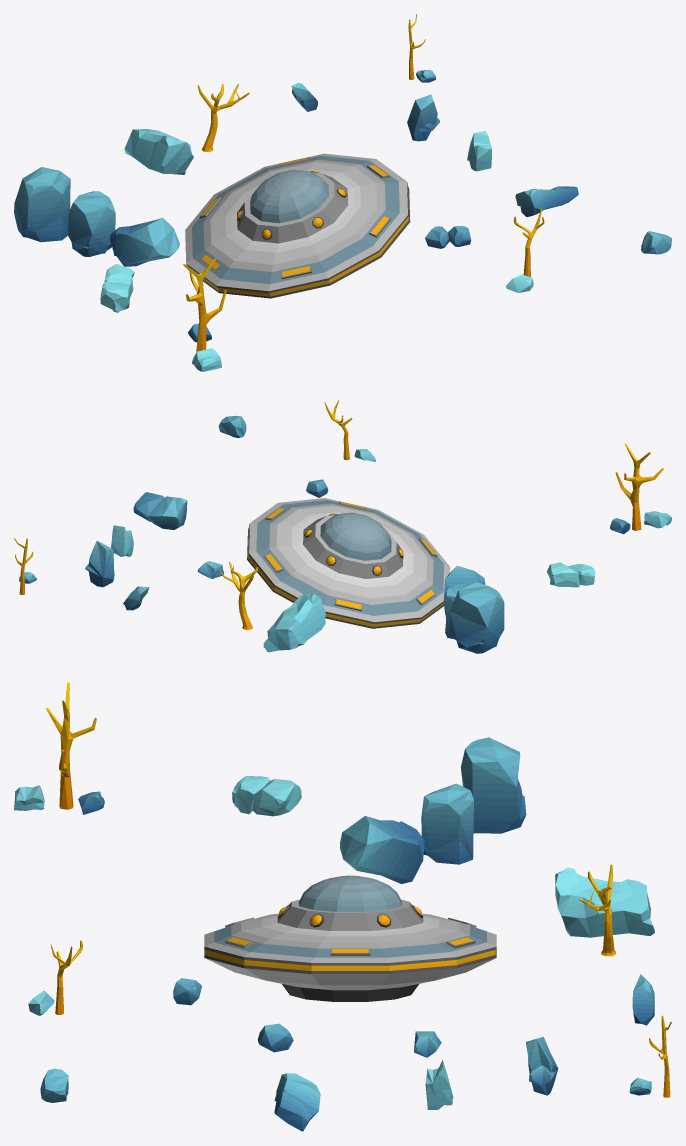
Rendered from field_20.glb.
3 views of the same model, one above another, from view 1: azimuth 30°, elevation 25°; view 2: azimuth 150°, elevation 25°; view 3: azimuth 270°, elevation 25° (orthographic). The views are drawn at different scales.
Visible parts, largest first — view 1: ufo_16, stone small blue 7_2, stone small blue 7 (1)_7, stone small blue 7 (2)_8, stone small blue 10_21, stone small blue 11_5, stone small blue 6_3, dry trees yellow 4_12, stone small blue (2)_4, stone small blue 8 (1)_20, dry trees yellow_13, stone small blue 9_18 (+1 smaller); view 2: ufo_16, stone small blue 7_2, stone small blue 10_21, stone small blue 6_3, stone small blue 11_5, stone small blue (2)_4, dry trees yellow 4_12, dry trees yellow_13, stone small blue 7 (2)_8, stone small blue 8 (1)_20, stone small blue 9_18, stone small blue 7 (1)_7; view 3: ufo_16, stone small blue 7_2, stone small blue 10_21, stone small blue 7 (2)_8, stone small blue 7 (1)_7, stone small blue 11_5, stone small blue 6_3, dry trees yellow 4_12, dry trees yellow_13, stone small blue (2)_4, stone small blue 8 (1)_20, stone small blue 5 (1)_19 (+3 smaller).
Part boxes in pixels (x1,y1,x2,y2): ufo_16: (185,153,410,298); stone small blue 7_2: (14,167,70,242); stone small blue 7 (1)_7: (68,191,115,256); stone small blue 7 (2)_8: (110,217,179,266); stone small blue 10_21: (124,129,193,174); stone small blue 11_5: (100,264,134,312); stone small blue 6_3: (515,186,578,216); dry trees yellow 4_12: (183,258,226,351); stone small blue (2)_4: (407,94,437,141); stone small blue 8 (1)_20: (467,131,491,171); dry trees yellow_13: (197,84,249,151); stone small blue 9_18: (641,231,671,254); ufo_16: (247,498,450,628); stone small blue 7_2: (450,582,504,653); stone small blue 10_21: (263,593,325,652); stone small blue 6_3: (133,492,187,529); stone small blue 11_5: (547,562,595,587); stone small blue (2)_4: (88,541,114,587); dry trees yellow 4_12: (615,443,664,530); dry trees yellow_13: (218,562,257,630); stone small blue 7 (2)_8: (444,565,485,614); stone small blue 8 (1)_20: (111,525,133,556); stone small blue 9_18: (218,415,246,437); stone small blue 7 (1)_7: (444,583,466,639); ufo_16: (204,875,496,1001); stone small blue 7_2: (460,737,526,833); stone small blue 10_21: (555,867,654,937); stone small blue 7 (2)_8: (340,816,424,883); stone small blue 7 (1)_7: (421,783,473,864); stone small blue 11_5: (232,776,301,816); stone small blue 6_3: (274,1073,320,1131); dry trees yellow 4_12: (46,682,96,809); dry trees yellow_13: (580,864,615,956); stone small blue (2)_4: (526,1036,558,1095); stone small blue 8 (1)_20: (425,1060,453,1109); stone small blue 5 (1)_19: (632,974,654,1025).
Bounding box in the file's own units: 20.79 × 5.73 × 18.86.
1 material, 1 textured.
